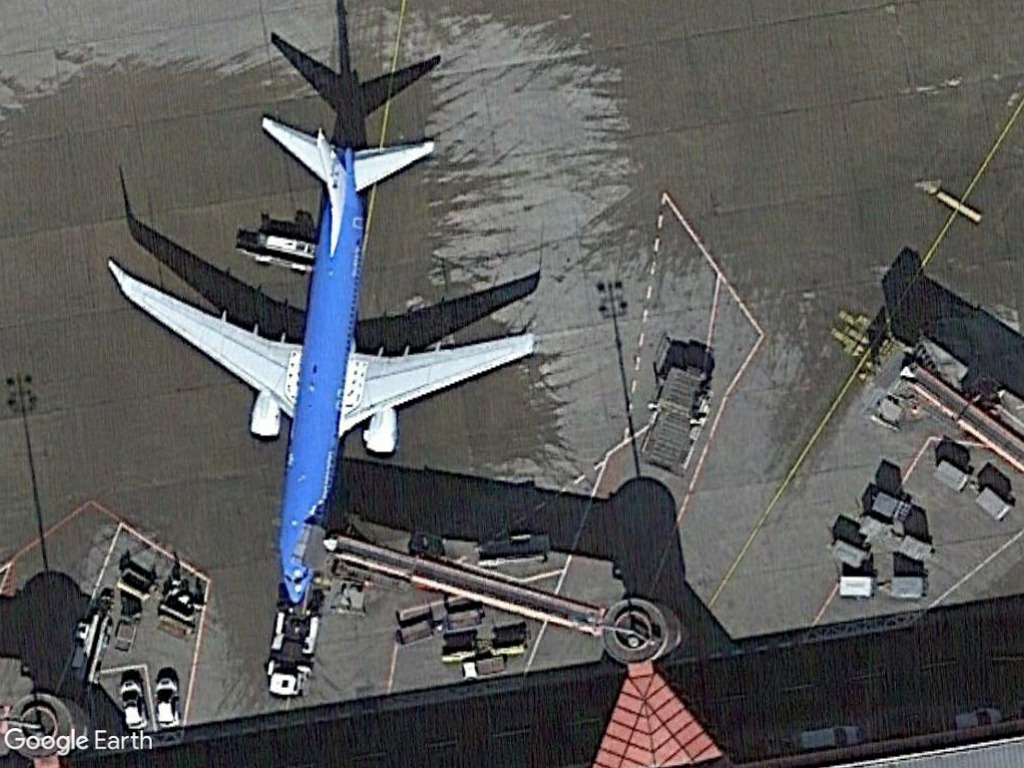airliner: (109, 112, 541, 608)
car: (151, 672, 184, 733), (113, 676, 150, 730)
